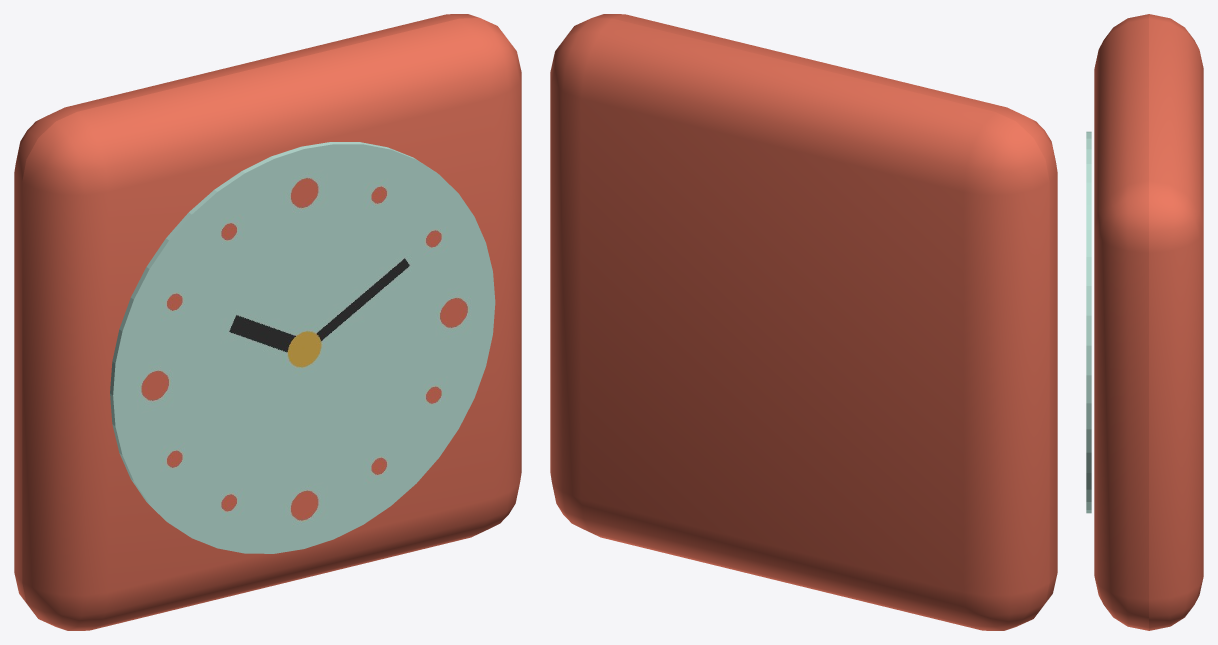
File: clock_c.glb
The picture shows the model from 3 angles, left to right: view 1: azimuth 30°, elevation 25°; view 2: azimuth 150°, elevation 25°; view 3: azimuth 270°, elevation 25°; orthographic projection. The views are drawn at different scales.
Visible parts, largest first — view 1: box, cyl; view 2: box; view 3: box, cyl.
Part boxes in pixels (<box>): box: <box>14,14,521,630</box>; cyl: <box>110,142,495,553</box>; box: <box>550,14,1057,630</box>; box: <box>1094,14,1203,630</box>; cyl: <box>1086,131,1091,513</box>.
Bounding box in the file's own units: 0.36 × 0.36 × 0.086.
2 materials, 1 textured.
